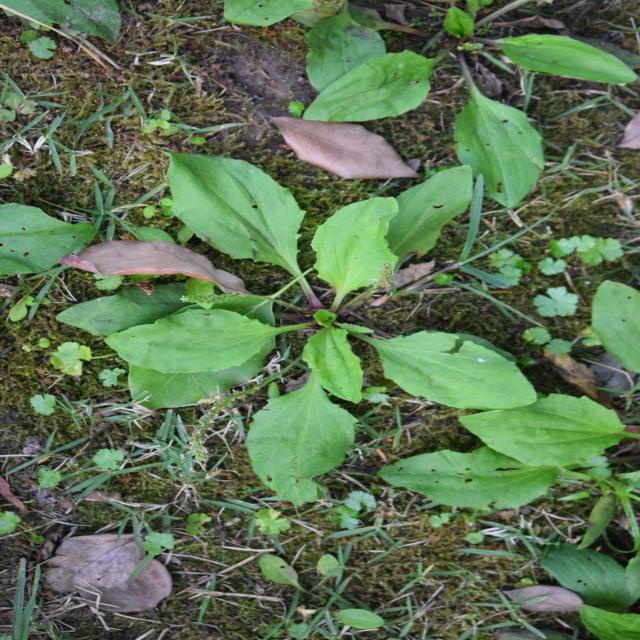plantain: (148, 145, 479, 541)
